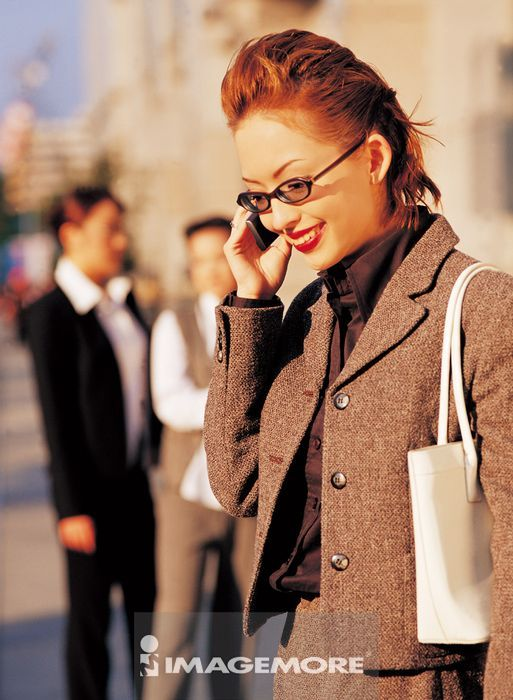talk: (223, 153, 337, 294)
